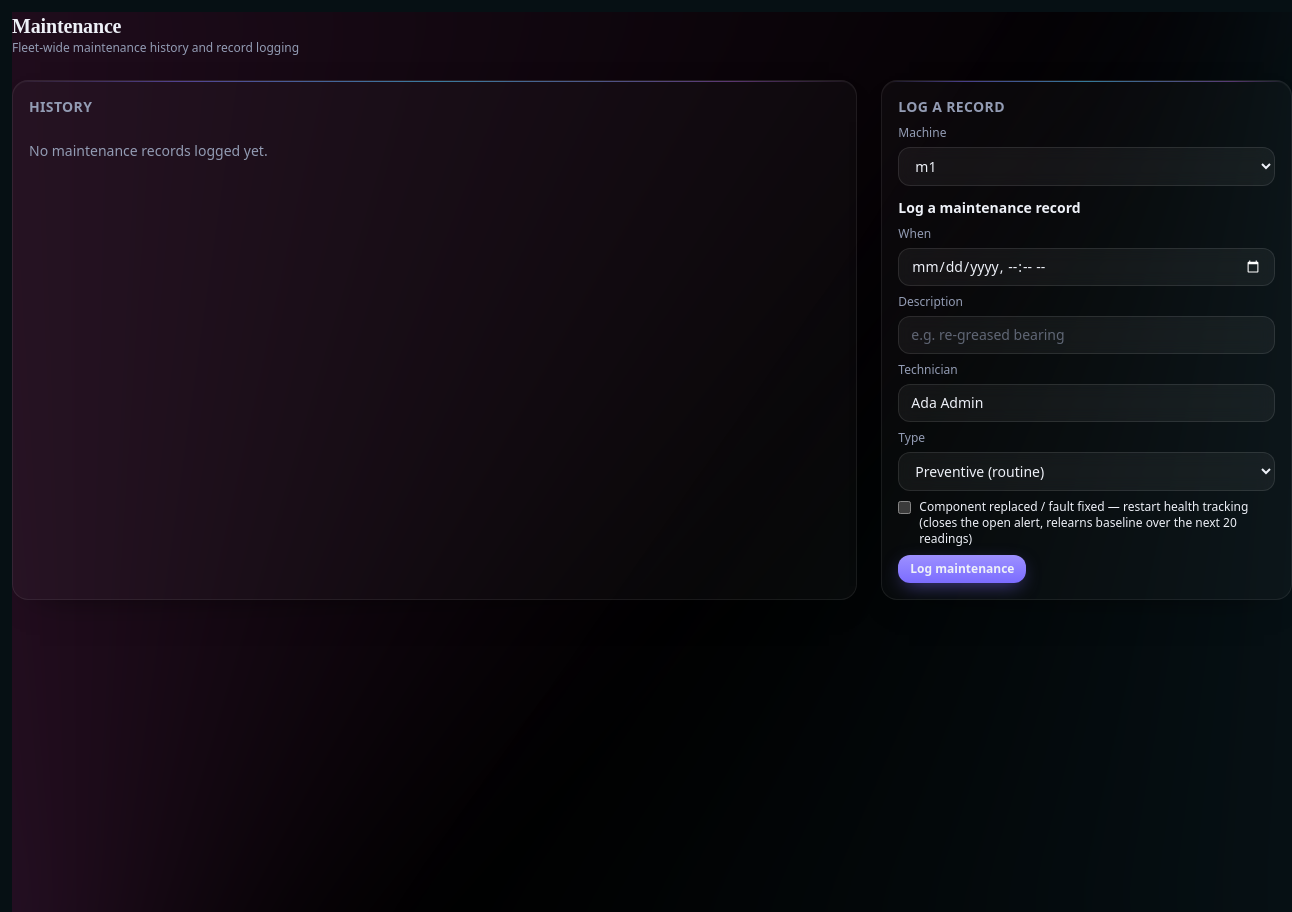
Test: MaintenancePage › logs a new maintenance record and adds it to the history table
Expected: the text "No maintenance records logged yet." is shown, [29,141,268,160]
Step 1. Type "2026-07-23T10:00" into the field labelled "When" → (1087, 267), box [898,248,1275,286]
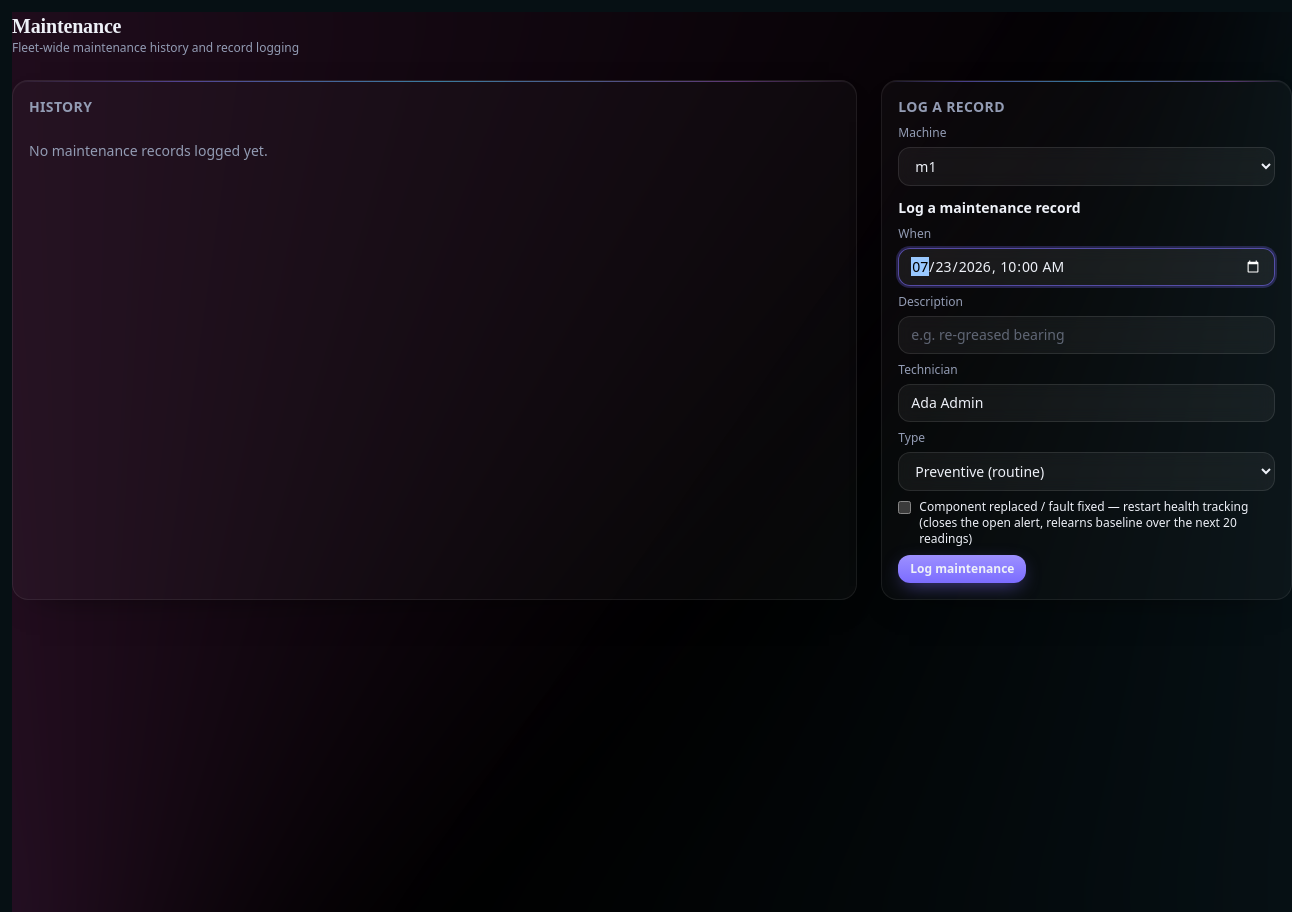
Step 2. Type "Replaced belt" into the field labelled "Description" → (1087, 335), box [898,316,1275,354]
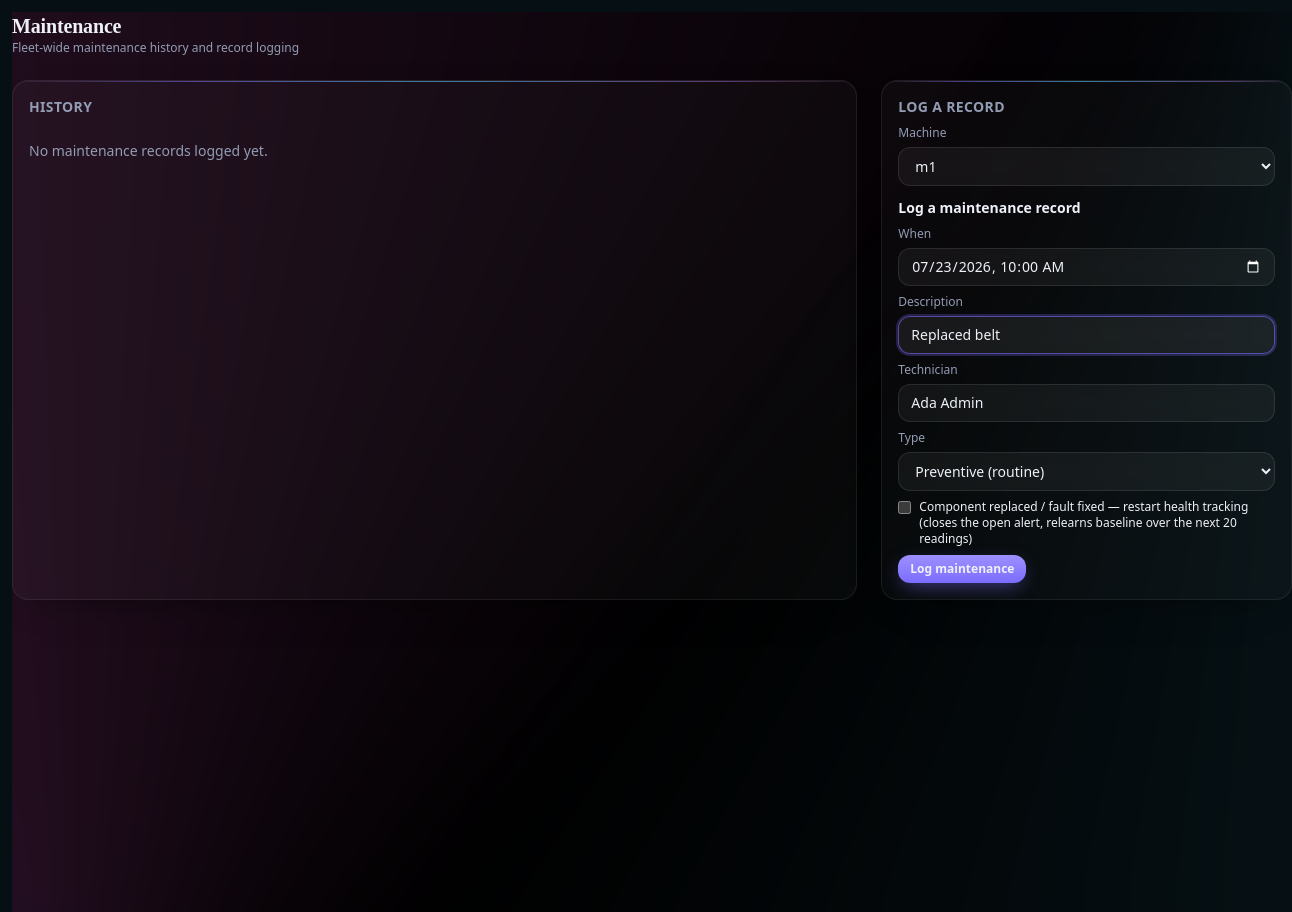
Step 3. Click the button "Log maintenance" → click(962, 569), box [898,555,1026,583]
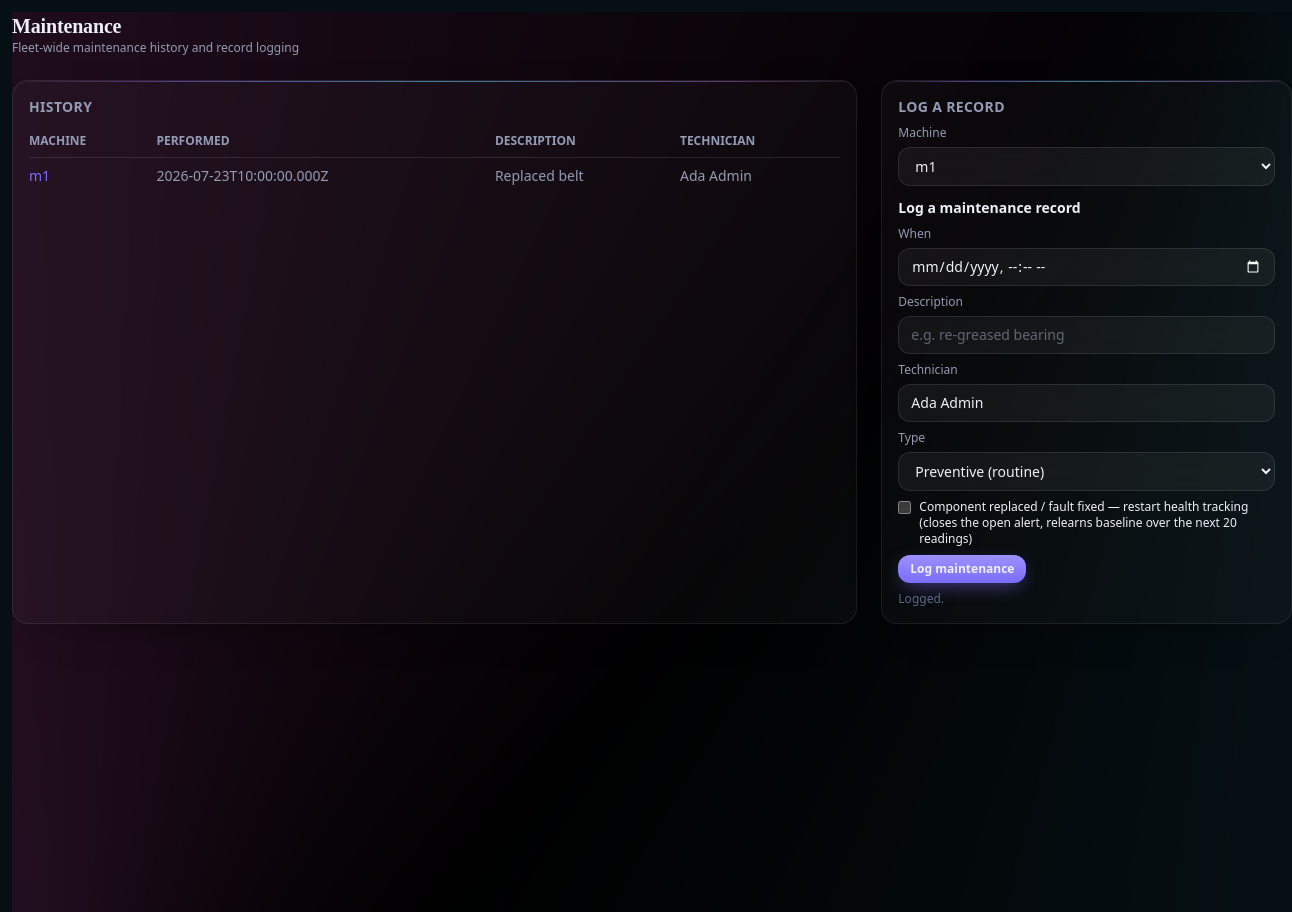
Now the text "Logged." is shown, box [898,590,944,607]
Now the text "Replaced belt" is shown, box [495,158,680,194]
Now the text "No maintenance records logged yet" is gone
